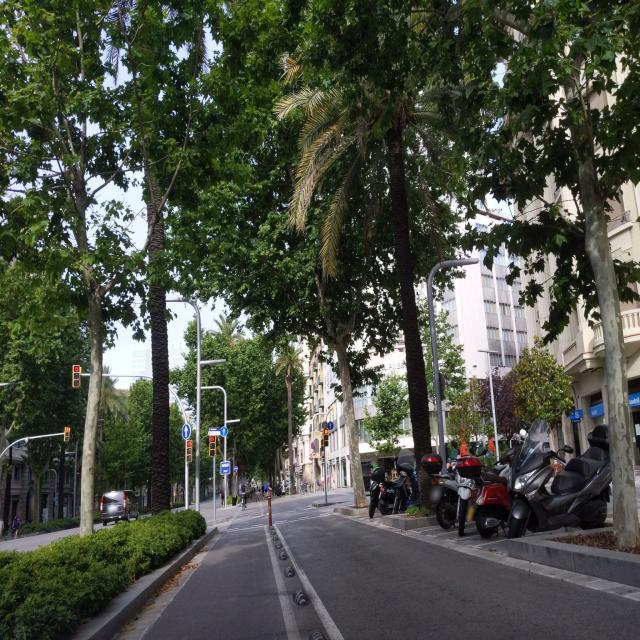bike: (505, 424, 614, 546), (475, 435, 531, 539), (391, 449, 419, 518), (260, 490, 276, 502), (238, 494, 248, 511), (301, 485, 316, 495), (249, 491, 254, 502)
car: (100, 488, 139, 524)
